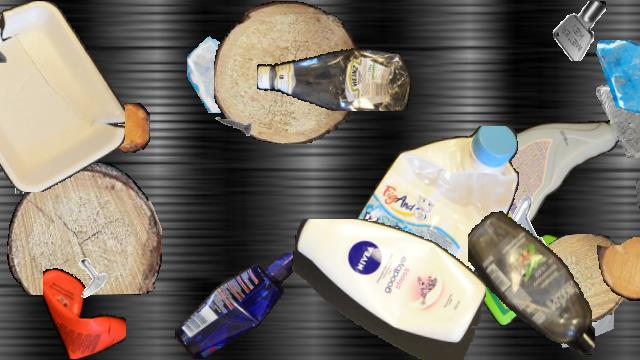glass: (187, 29, 271, 113), (355, 199, 417, 261), (593, 84, 640, 158), (593, 40, 640, 112), (557, 291, 613, 347), (633, 177, 640, 271)
metal: (501, 194, 563, 256), (551, 1, 611, 61), (7, 147, 53, 193), (67, 256, 111, 300), (212, 106, 252, 146), (0, 39, 15, 101)
plastic: (336, 126, 522, 332), (290, 219, 486, 359), (0, 1, 124, 191), (448, 114, 622, 242), (468, 209, 594, 359), (174, 253, 304, 359), (257, 43, 411, 111), (474, 234, 584, 326), (43, 265, 125, 359)
wood: (214, 1, 358, 143), (7, 163, 161, 295), (531, 234, 629, 322), (0, 93, 82, 169), (597, 237, 640, 301), (107, 103, 149, 153)
